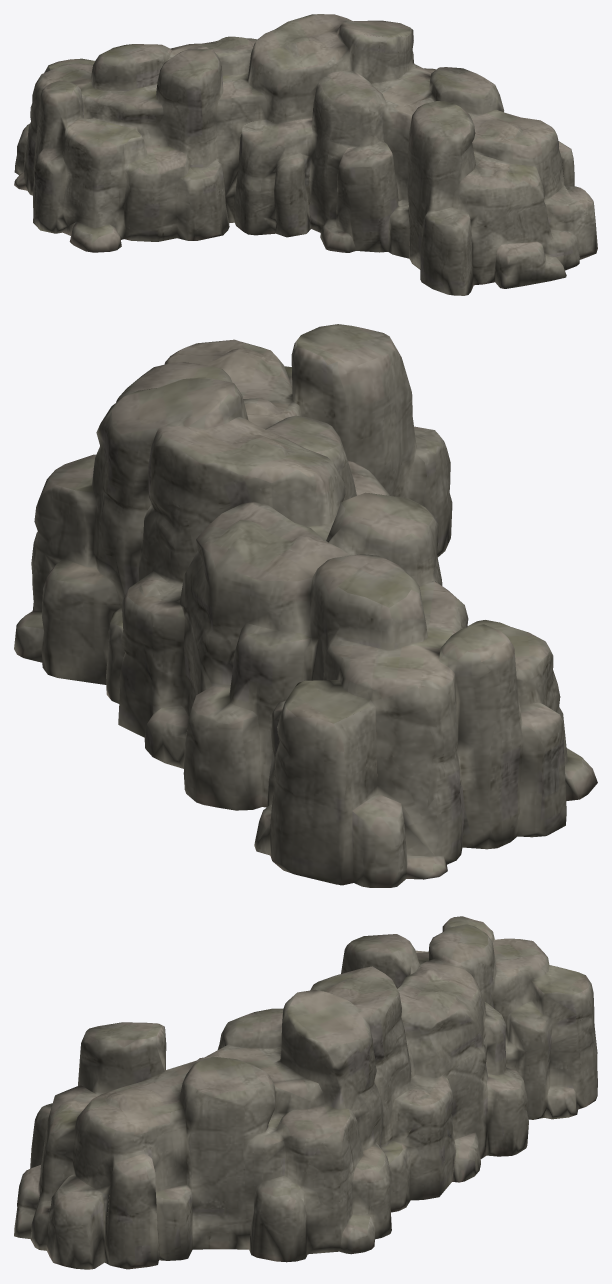
Rendered from a31_cliff_a.glb.
The picture shows the model from 3 angles, top to bottom: view 1: azimuth 30°, elevation 25°; view 2: azimuth 150°, elevation 25°; view 3: azimuth 270°, elevation 25°; orthographic projection. The views are drawn at different scales.
Visible parts, largest first — view 1: body; view 2: body; view 3: body.
Part boxes in pixels (x1,y1,x2,y2): body: (14, 14, 597, 295); body: (14, 324, 597, 887); body: (14, 916, 597, 1269).
Bounding box in the file's own units: 0.9225 × 0.3753 × 1.
Materials: 1 (1 with a texture image).
